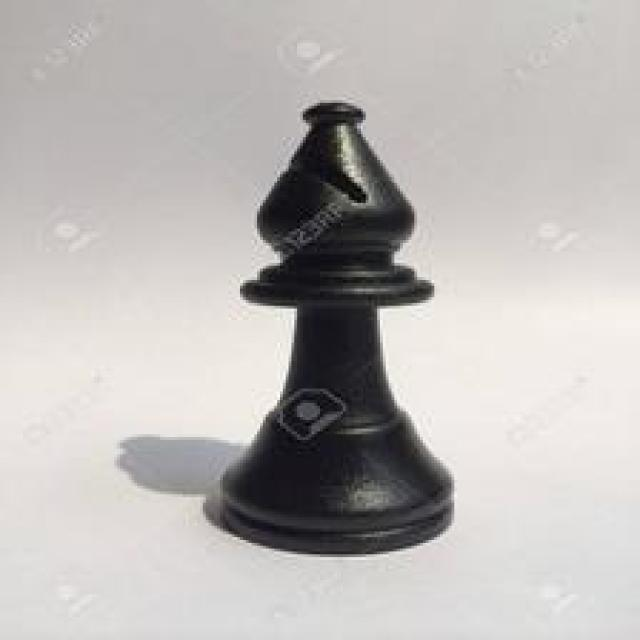black-bishop: (217, 100, 453, 558)
